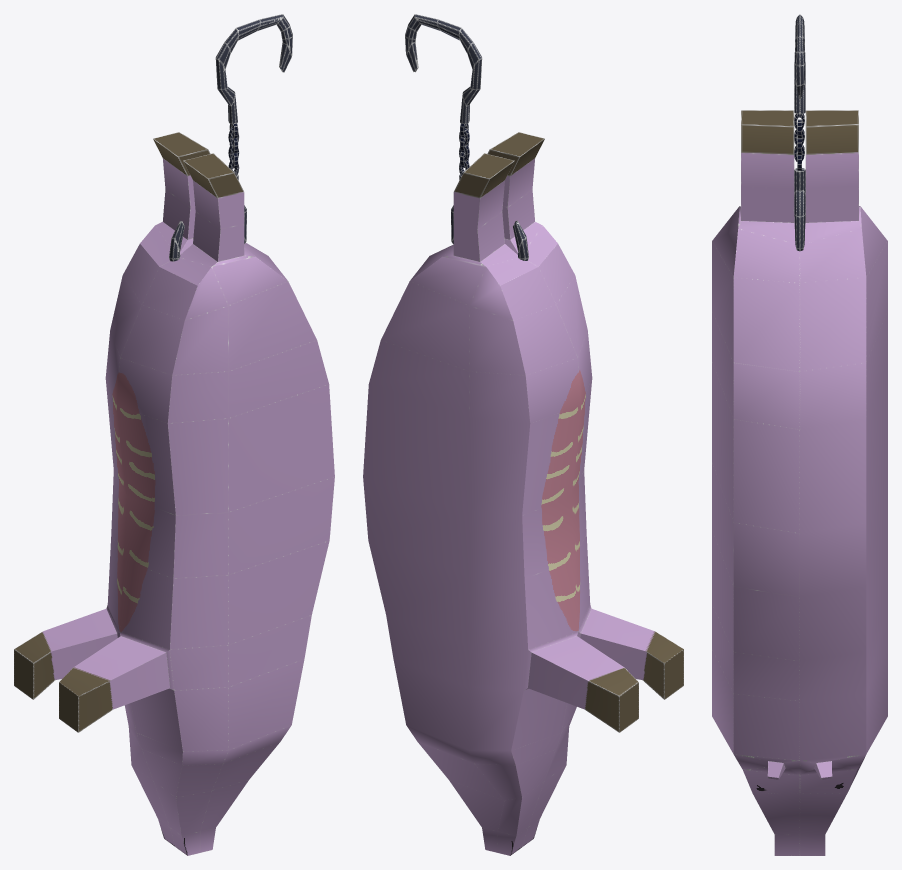
File: sm_meatHook_1.fbx
The picture shows the model from 3 angles, left to right: view 1: azimuth 30°, elevation 25°; view 2: azimuth 150°, elevation 25°; view 3: azimuth 270°, elevation 25°; orthographic projection. The views are drawn at different scales.
Visible parts, largest first — view 1: pCylinder5; view 2: pCylinder5; view 3: pCylinder5.
Boxes of the visible parts, <box> form: pCylinder5: <box>14,14,334,855</box>; pCylinder5: <box>363,14,683,855</box>; pCylinder5: <box>712,14,887,855</box>.
Bounding box in the file's own units: 74.55 × 206 × 38.1.
